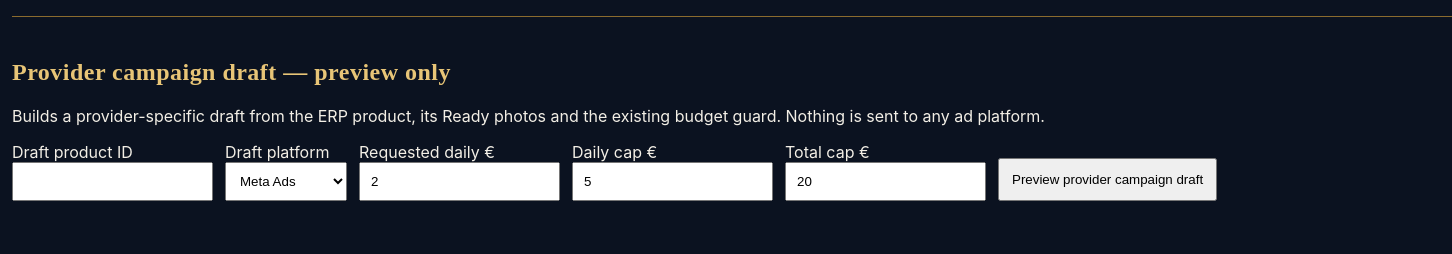
Test: ADS-008 Admin campaign draft preview › refuses a draft that was not built for the requested caps
Type "NOC-000007" into the field labelled "Draft product ID". click: (112, 181)
box: [12, 162, 213, 201]
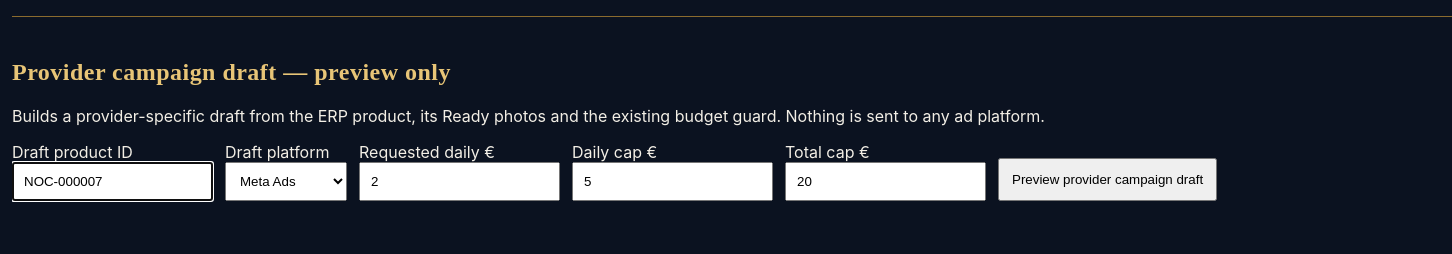
Click the button "Preview provider campaign draft". click: (1108, 179)
box: [998, 158, 1217, 201]
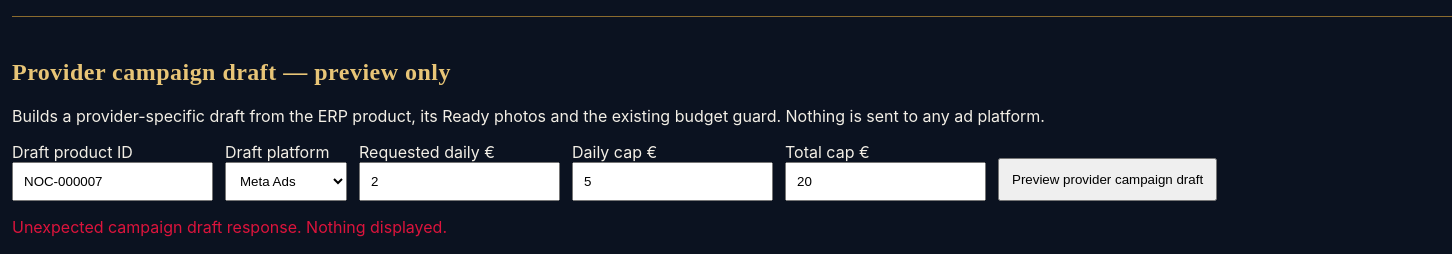
Check: the message shows "Unexpected campaign draft response", box [12, 217, 447, 237]
